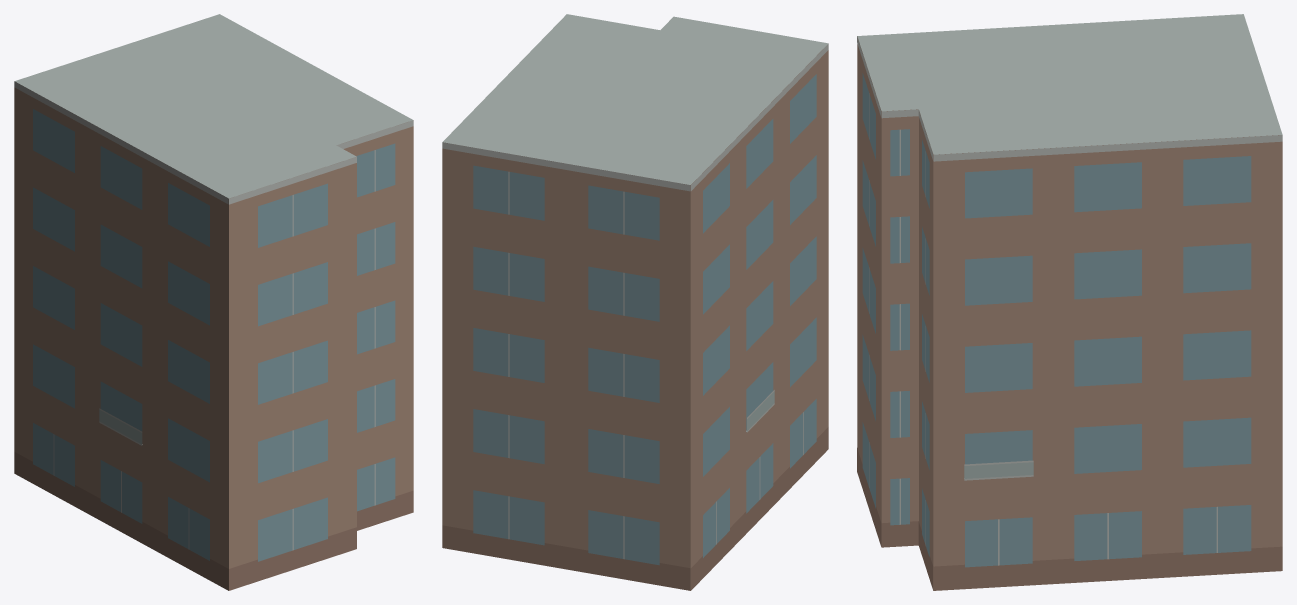
Rendered from survey-upis-32799584.glb.
3 views of the same model, side by side, from view 1: azimuth 30°, elevation 25°; view 2: azimuth 150°, elevation 25°; view 3: azimuth 270°, elevation 25° (orthographic). The views are drawn at different scales.
Parts seen in each view (by area): view 1: survey-upis-32799584.tmp; view 2: survey-upis-32799584.tmp; view 3: survey-upis-32799584.tmp.
Part boxes in pixels (left/top/right/bottom): survey-upis-32799584.tmp: left=14, top=14, right=413, bottom=590; survey-upis-32799584.tmp: left=442, top=14, right=828, bottom=590; survey-upis-32799584.tmp: left=857, top=14, right=1282, bottom=590.
Size of the model in its own units: 10.77 by 15.55 by 13.76.
